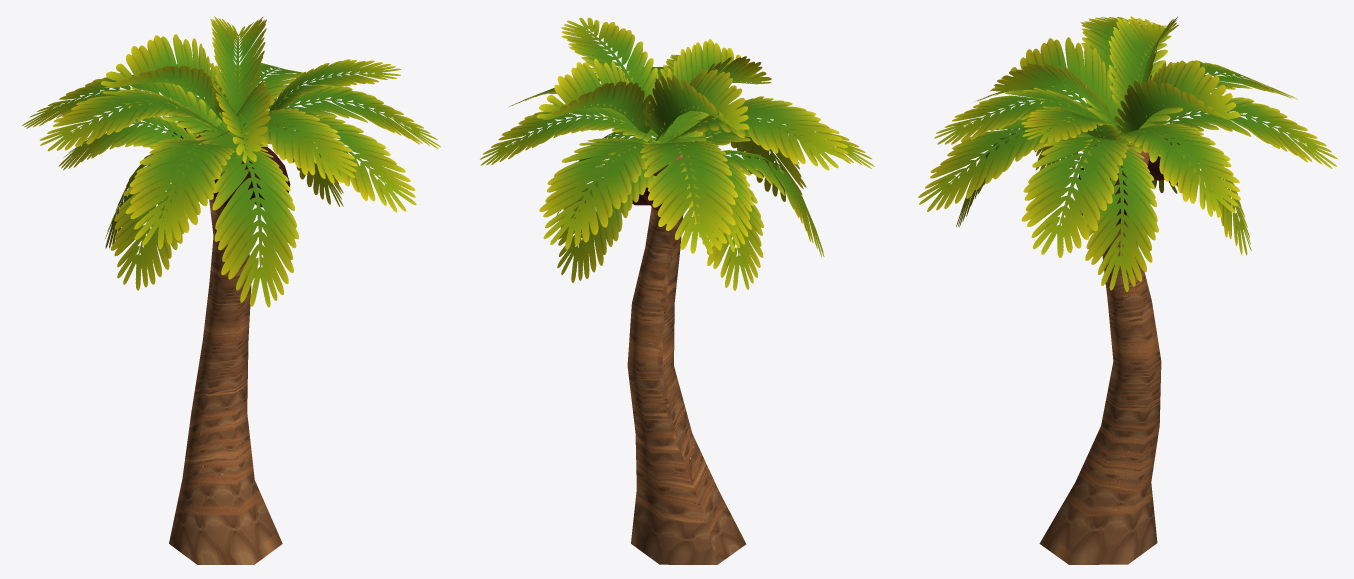
Rendered from Palmtree.fbx.
3 views of the same model, side by side, from view 1: azimuth 30°, elevation 25°; view 2: azimuth 150°, elevation 25°; view 3: azimuth 270°, elevation 25° (orthographic). The views are drawn at different scales.
Visible parts, largest first — view 1: Plane.001; view 2: Plane.001; view 3: Plane.001.
Part boxes in pixels (x1,y1,x2,y2): Plane.001: [22, 16, 440, 564]; Plane.001: [480, 17, 874, 564]; Plane.001: [918, 16, 1337, 564].
Size of the model in its own units: 334 by 426 by 327.
Materials: 3 (2 with a texture image).
